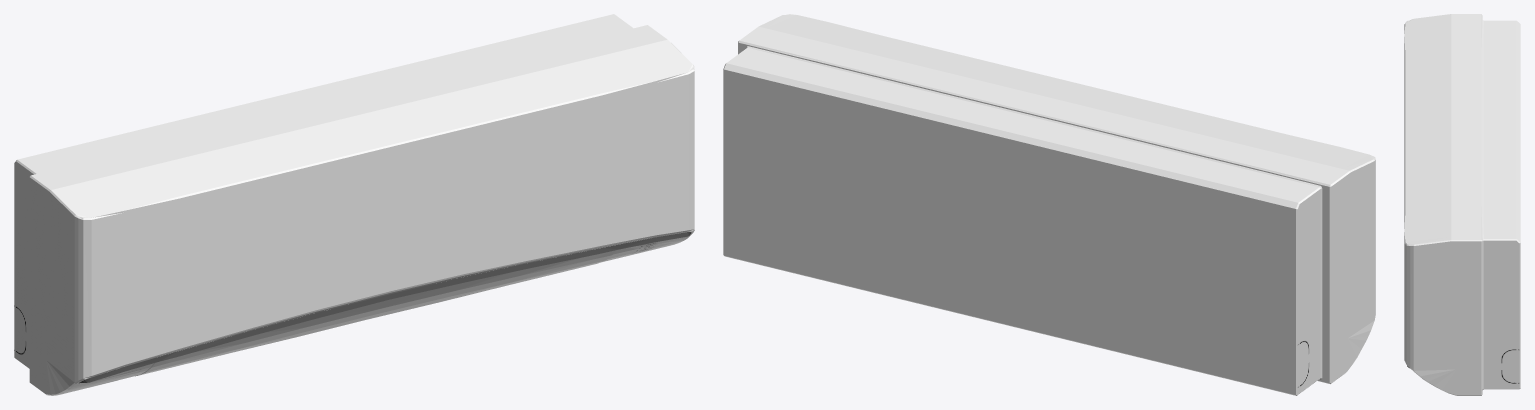
Rendered from Air conditioner - Appliance Electronic Lowpoly.fbx.
3 renders of one model, left to right at view 1: azimuth 30°, elevation 25°; view 2: azimuth 150°, elevation 25°; view 3: azimuth 270°, elevation 25°, orthographic. The views are drawn at different scales.
Visible parts, largest first — view 1: polySurface22_MI_air_con_01_0, polySurface15, polySurface22_INOX_0; view 2: polySurface22_MI_air_con_01_0; view 3: polySurface22_MI_air_con_01_0.
Part boxes in pixels (x1,y1,x2,y2): polySurface22_MI_air_con_01_0: (14, 14, 694, 395); polySurface15: (135, 250, 615, 376); polySurface22_INOX_0: (79, 232, 691, 383); polySurface22_MI_air_con_01_0: (723, 14, 1375, 395); polySurface22_MI_air_con_01_0: (1404, 14, 1520, 395).
Size of the model in its own units: 92.1 by 29.5 by 19.9.
2 materials, 1 textured.
